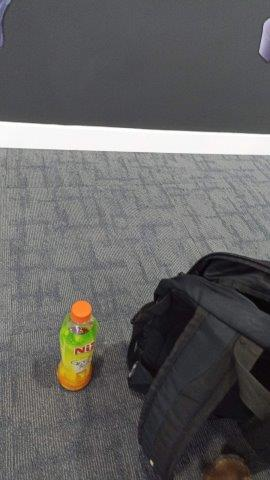botolplastik: (58, 301, 99, 390)
